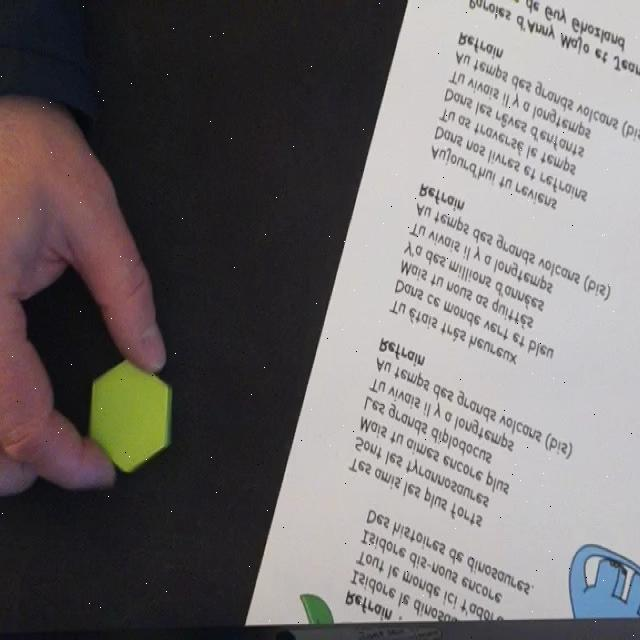hexagon: (89, 360, 174, 476)
